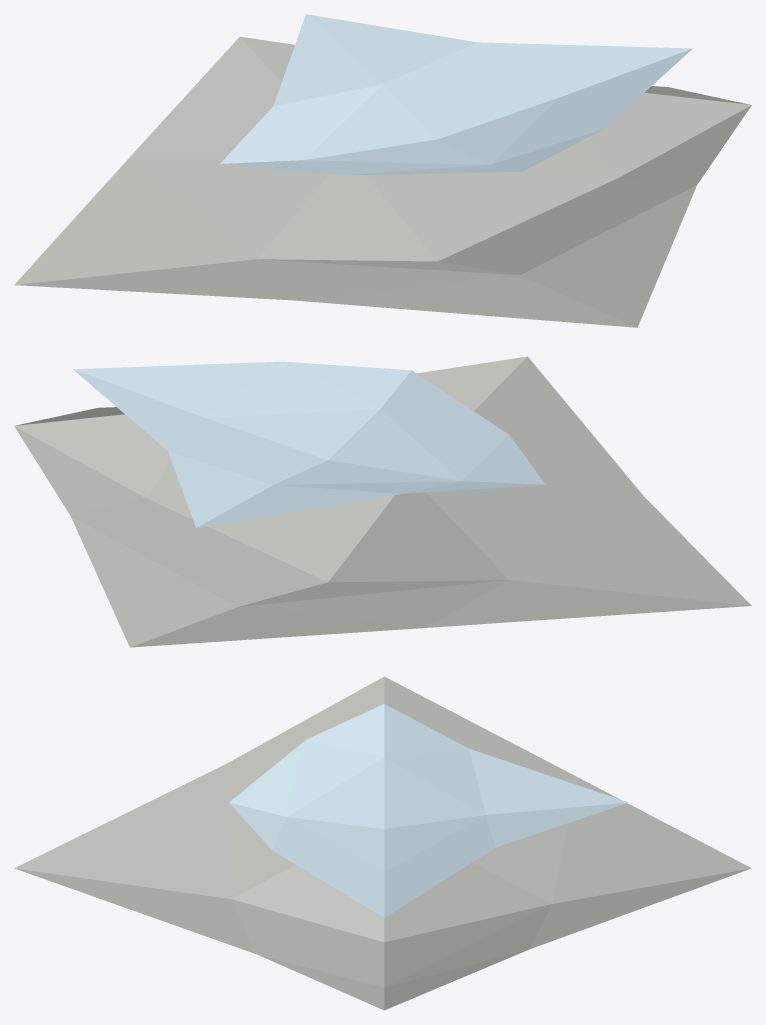
File: puddle_stone_v25.glb
The picture shows the model from 3 angles, top to bottom: view 1: azimuth 30°, elevation 25°; view 2: azimuth 150°, elevation 25°; view 3: azimuth 270°, elevation 25°; orthographic projection. The views are drawn at different scales.
Visible parts, largest first — view 1: lod0; view 2: lod0; view 3: lod0.
Boxes of the visible parts, box(x1,y1,x2,y2) form: lod0: box(14, 14, 751, 327); lod0: box(14, 356, 751, 647); lod0: box(14, 676, 751, 1010).
Size of what is drawn, in the model's own units: 0.7619 by 0.1799 by 0.7114.
